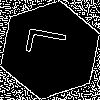L: (25, 25, 78, 62)
